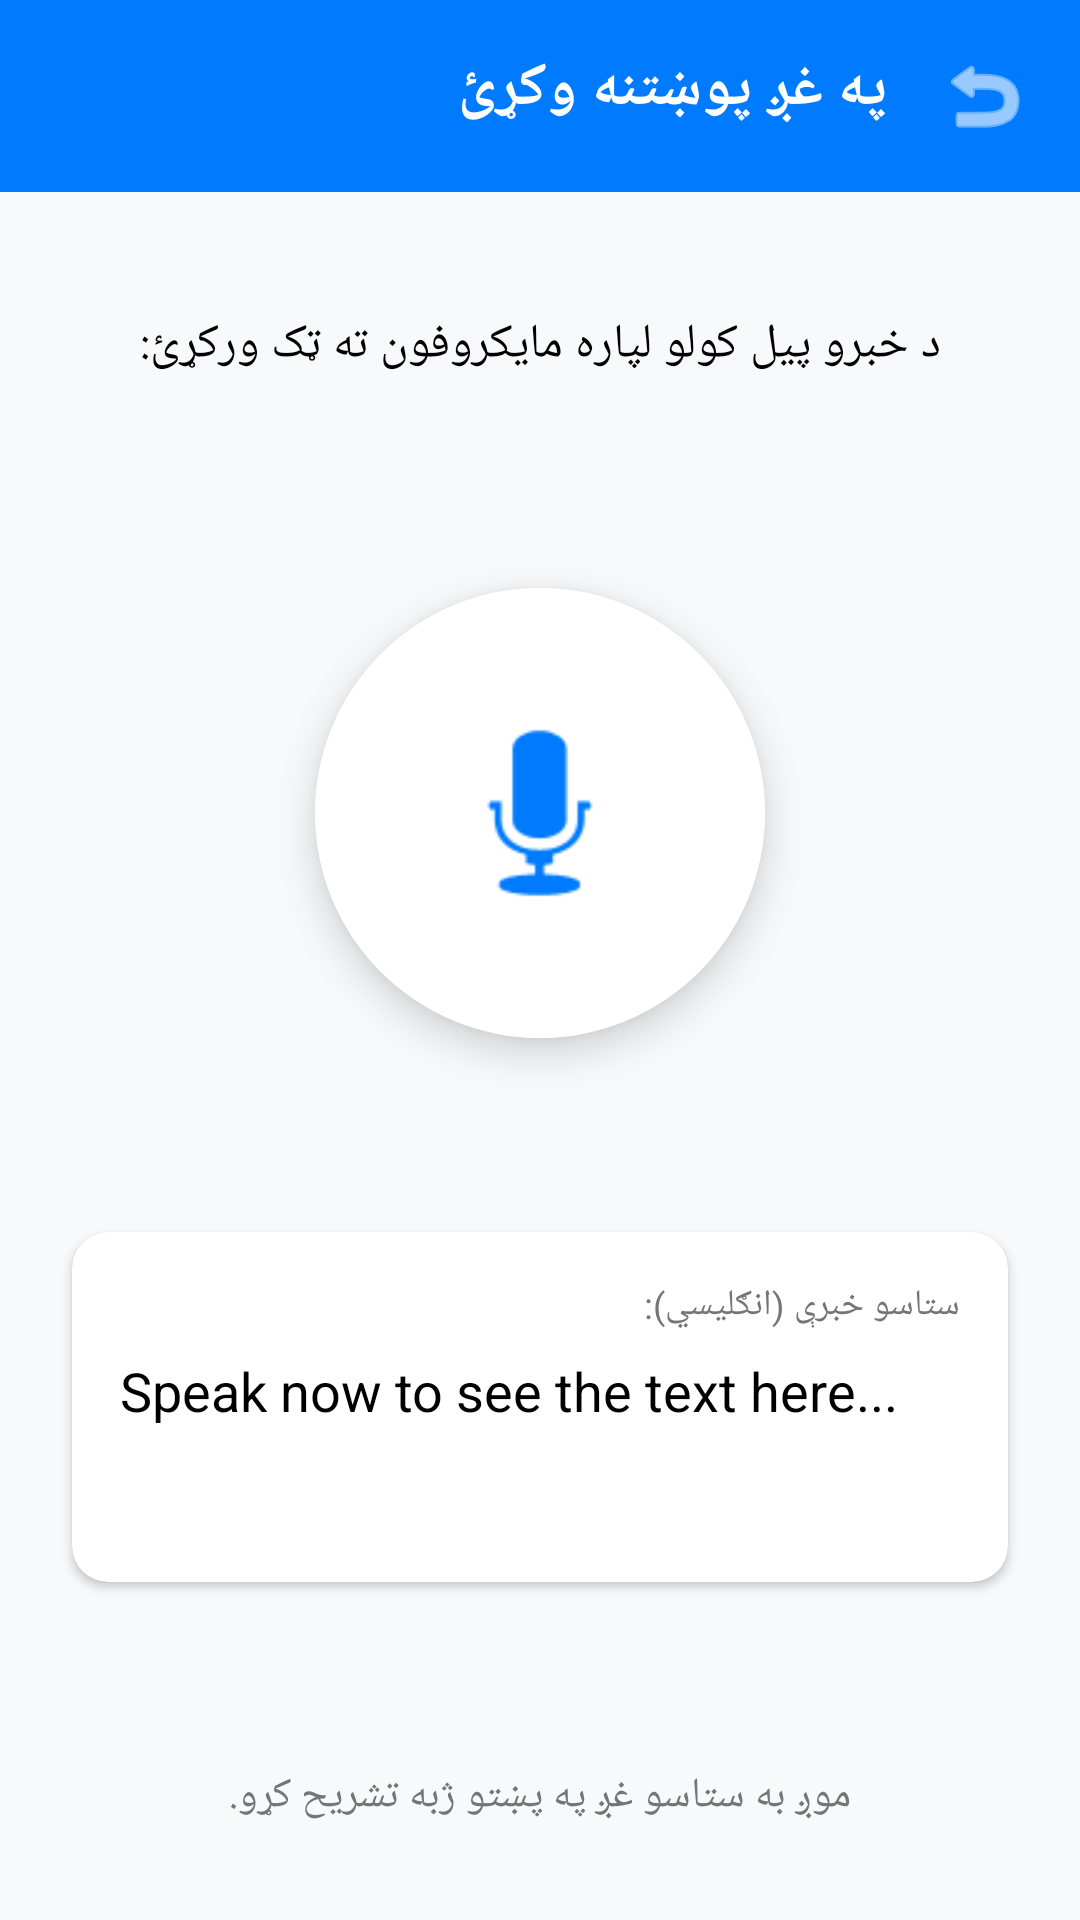

Screen size 1080 × 1920. Icon name, then its center in pixels as point (x, y):
revert: point (985, 96)
speak now: point (540, 813)
